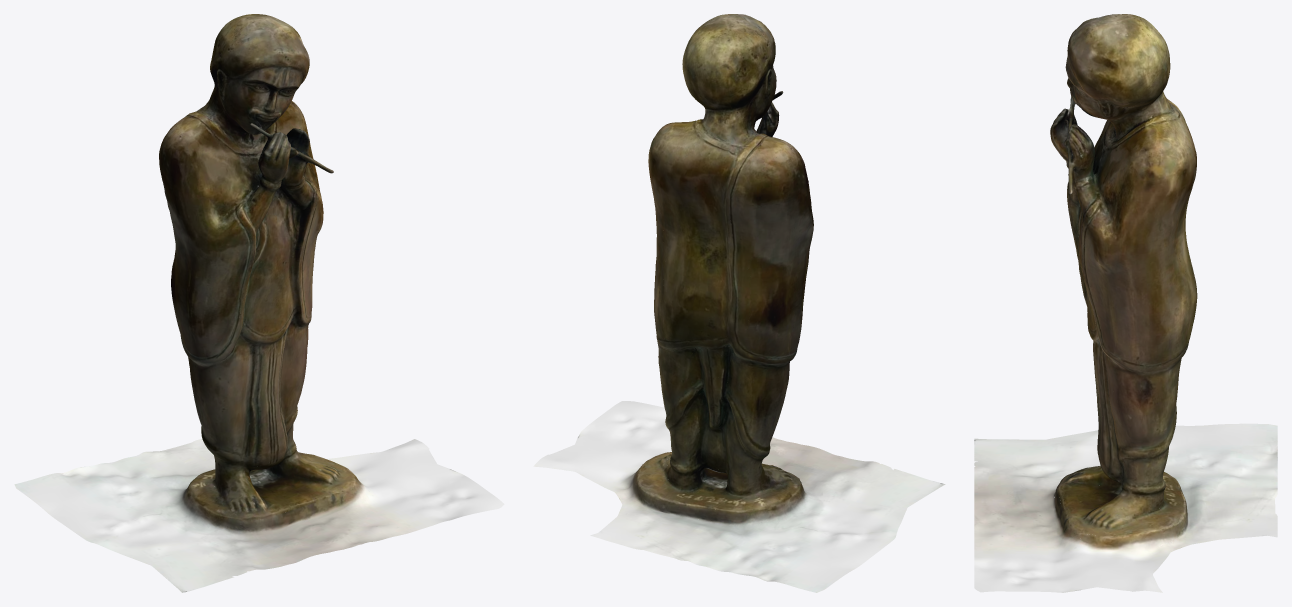
File: lord-krishna.glb
3 views of the same model, side by side, from view 1: azimuth 30°, elevation 25°; view 2: azimuth 150°, elevation 25°; view 3: azimuth 270°, elevation 25° (orthographic). The views are drawn at different scales.
Parts seen in each view (by area): view 1: LordKrishna_export; view 2: LordKrishna_export; view 3: LordKrishna_export.
Boxes of the visible parts, box(x1,y1,x2,y2) form: LordKrishna_export: box(14, 14, 504, 592); LordKrishna_export: box(533, 14, 945, 592); LordKrishna_export: box(974, 14, 1277, 592).
Size of the model in its own units: 0.3733 by 0.5 by 0.2786.
1 material, 1 textured.
